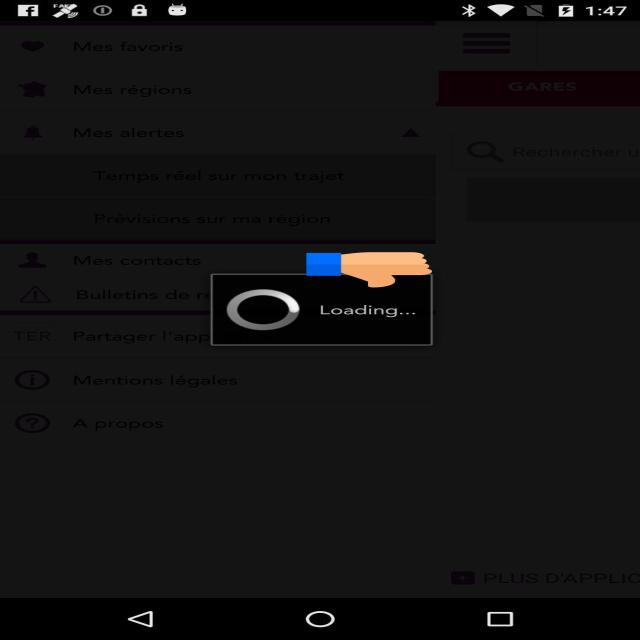obstruction: (306, 252, 432, 288)
